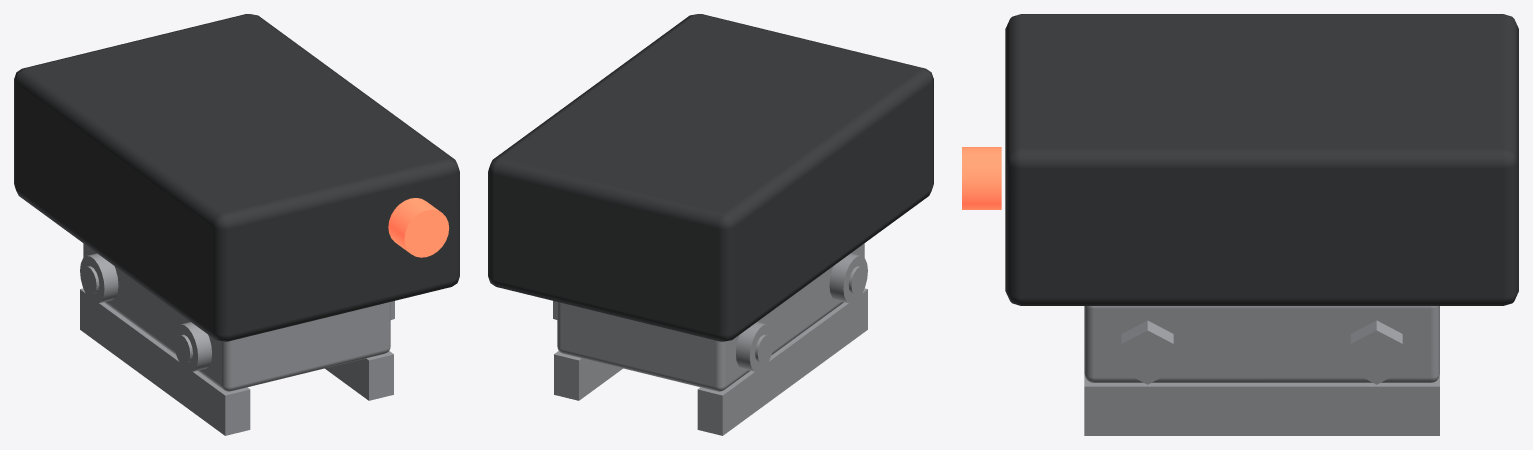
File: fps-weapon-set-and-firing-range-laser-module-2b1f1a47__19453.glb
The picture shows the model from 3 angles, left to right: view 1: azimuth 30°, elevation 25°; view 2: azimuth 150°, elevation 25°; view 3: azimuth 270°, elevation 25°; orthographic projection. The views are drawn at different scales.
Parts seen in each view (by area): view 1: laser-module; view 2: laser-module; view 3: laser-module.
Boxes of the visible parts, <box> form: laser-module: <box>14,14,459,435</box>; laser-module: <box>488,14,933,435</box>; laser-module: <box>962,14,1518,435</box>.
Bounding box in the file's own units: 0.044 × 0.0425 × 0.0705.
